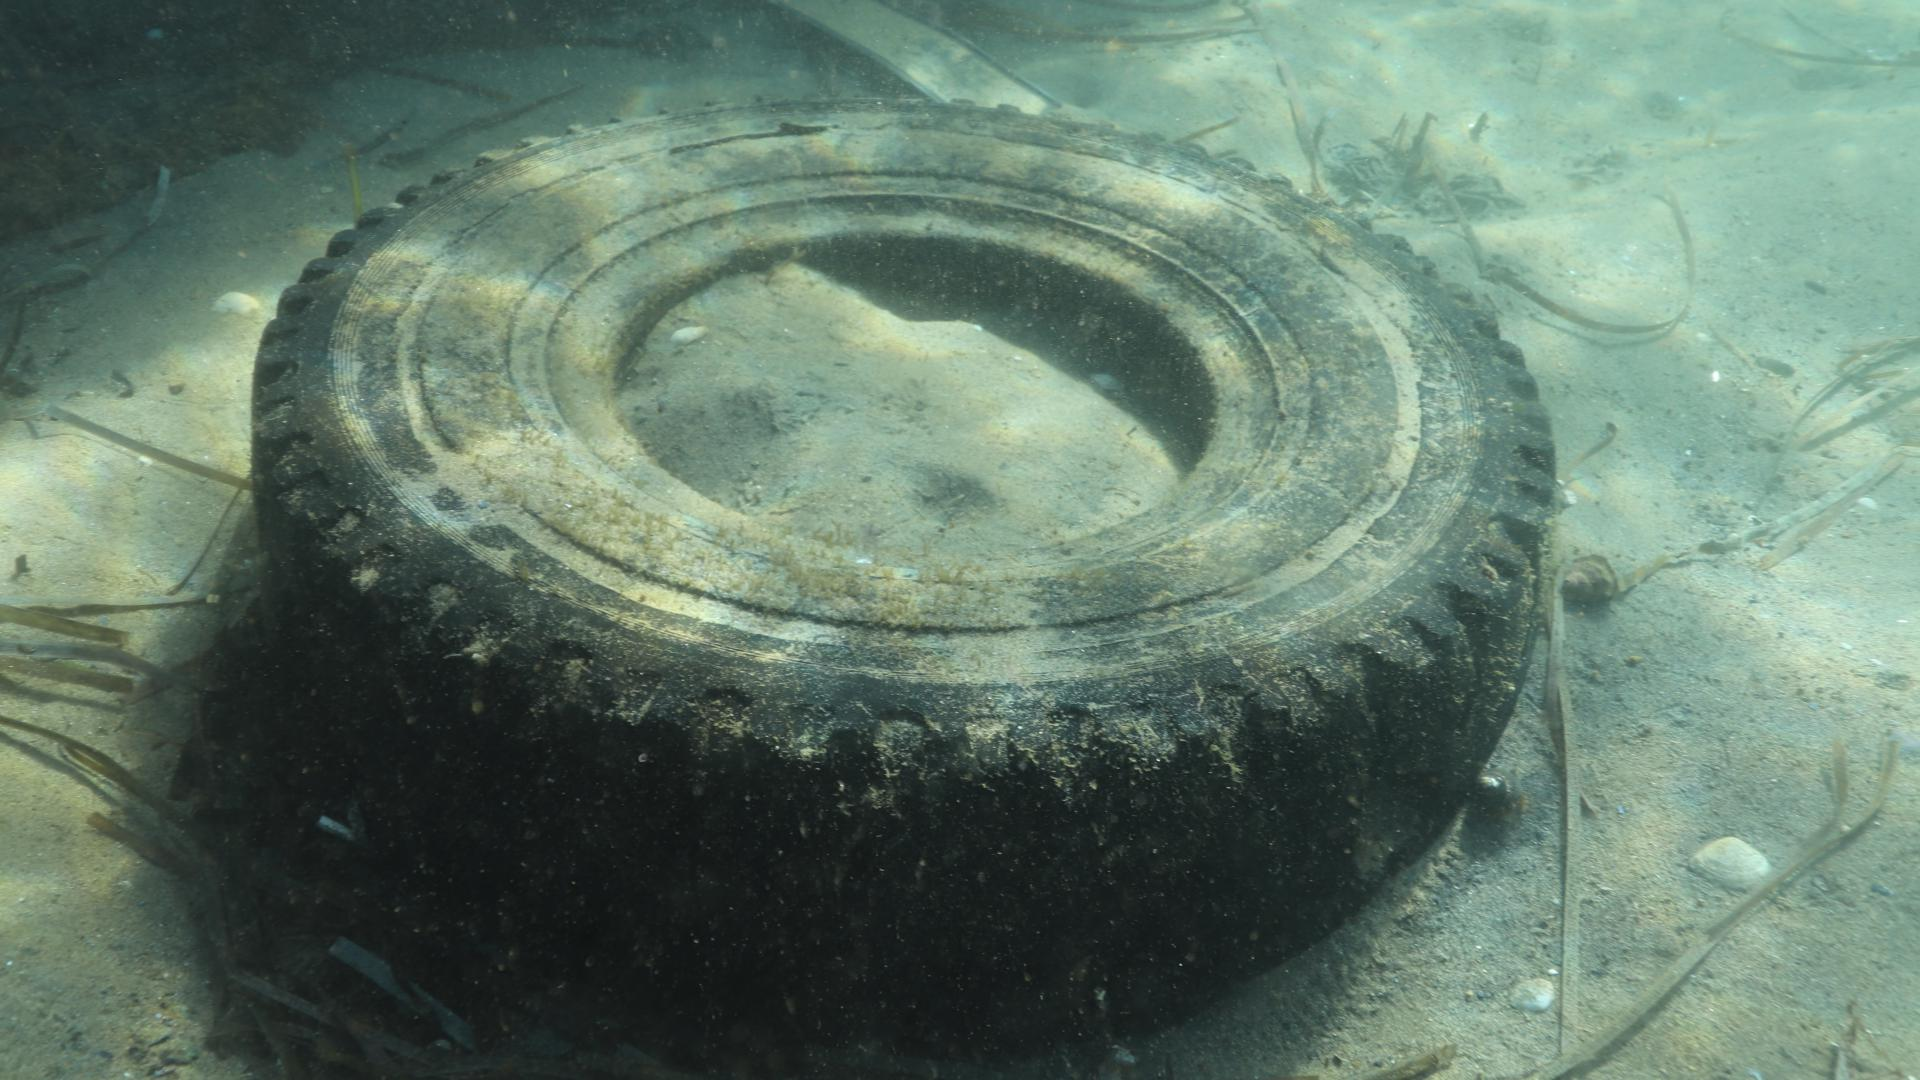tire: (247, 92, 1555, 1054)
